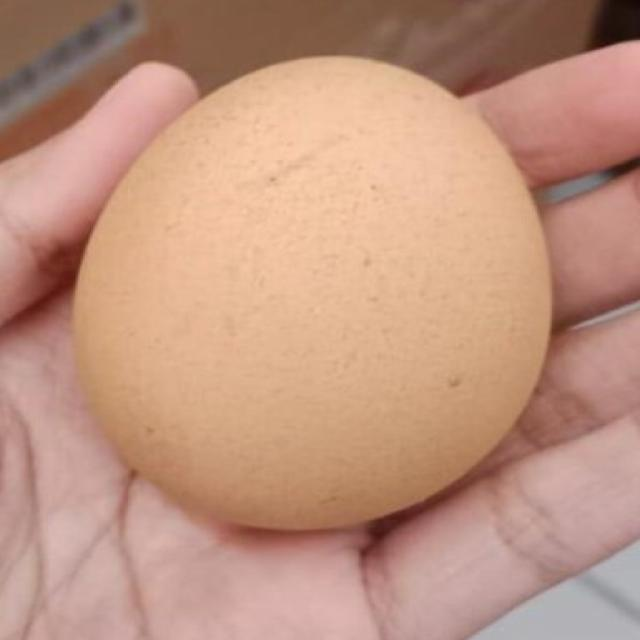unfresh: (51, 43, 568, 538)
